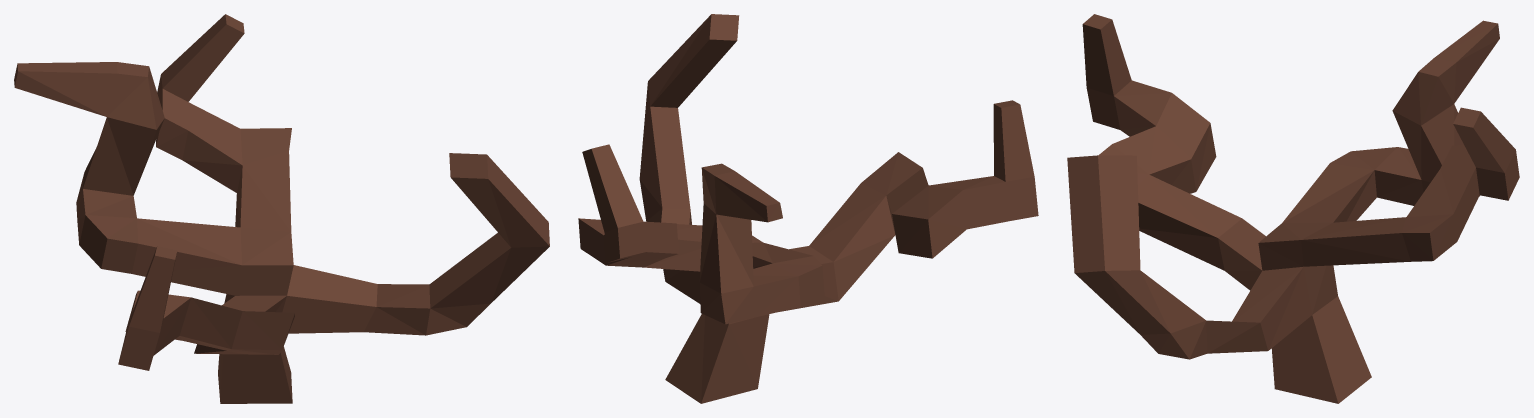
File: Plant_9.fbx
3 renders of one model, left to right at view 1: azimuth 30°, elevation 25°; view 2: azimuth 150°, elevation 25°; view 3: azimuth 270°, elevation 25°, orthographic. The views are drawn at different scales.
Visible parts, largest first — view 1: Plant_9; view 2: Plant_9; view 3: Plant_9.
Boxes of the visible parts, box(x1,y1,x2,y2) form: Plant_9: box(14, 14, 549, 403); Plant_9: box(578, 14, 1038, 403); Plant_9: box(1067, 14, 1519, 403).
Size of the model in its own units: 0.478 by 0.3236 by 0.4483.
